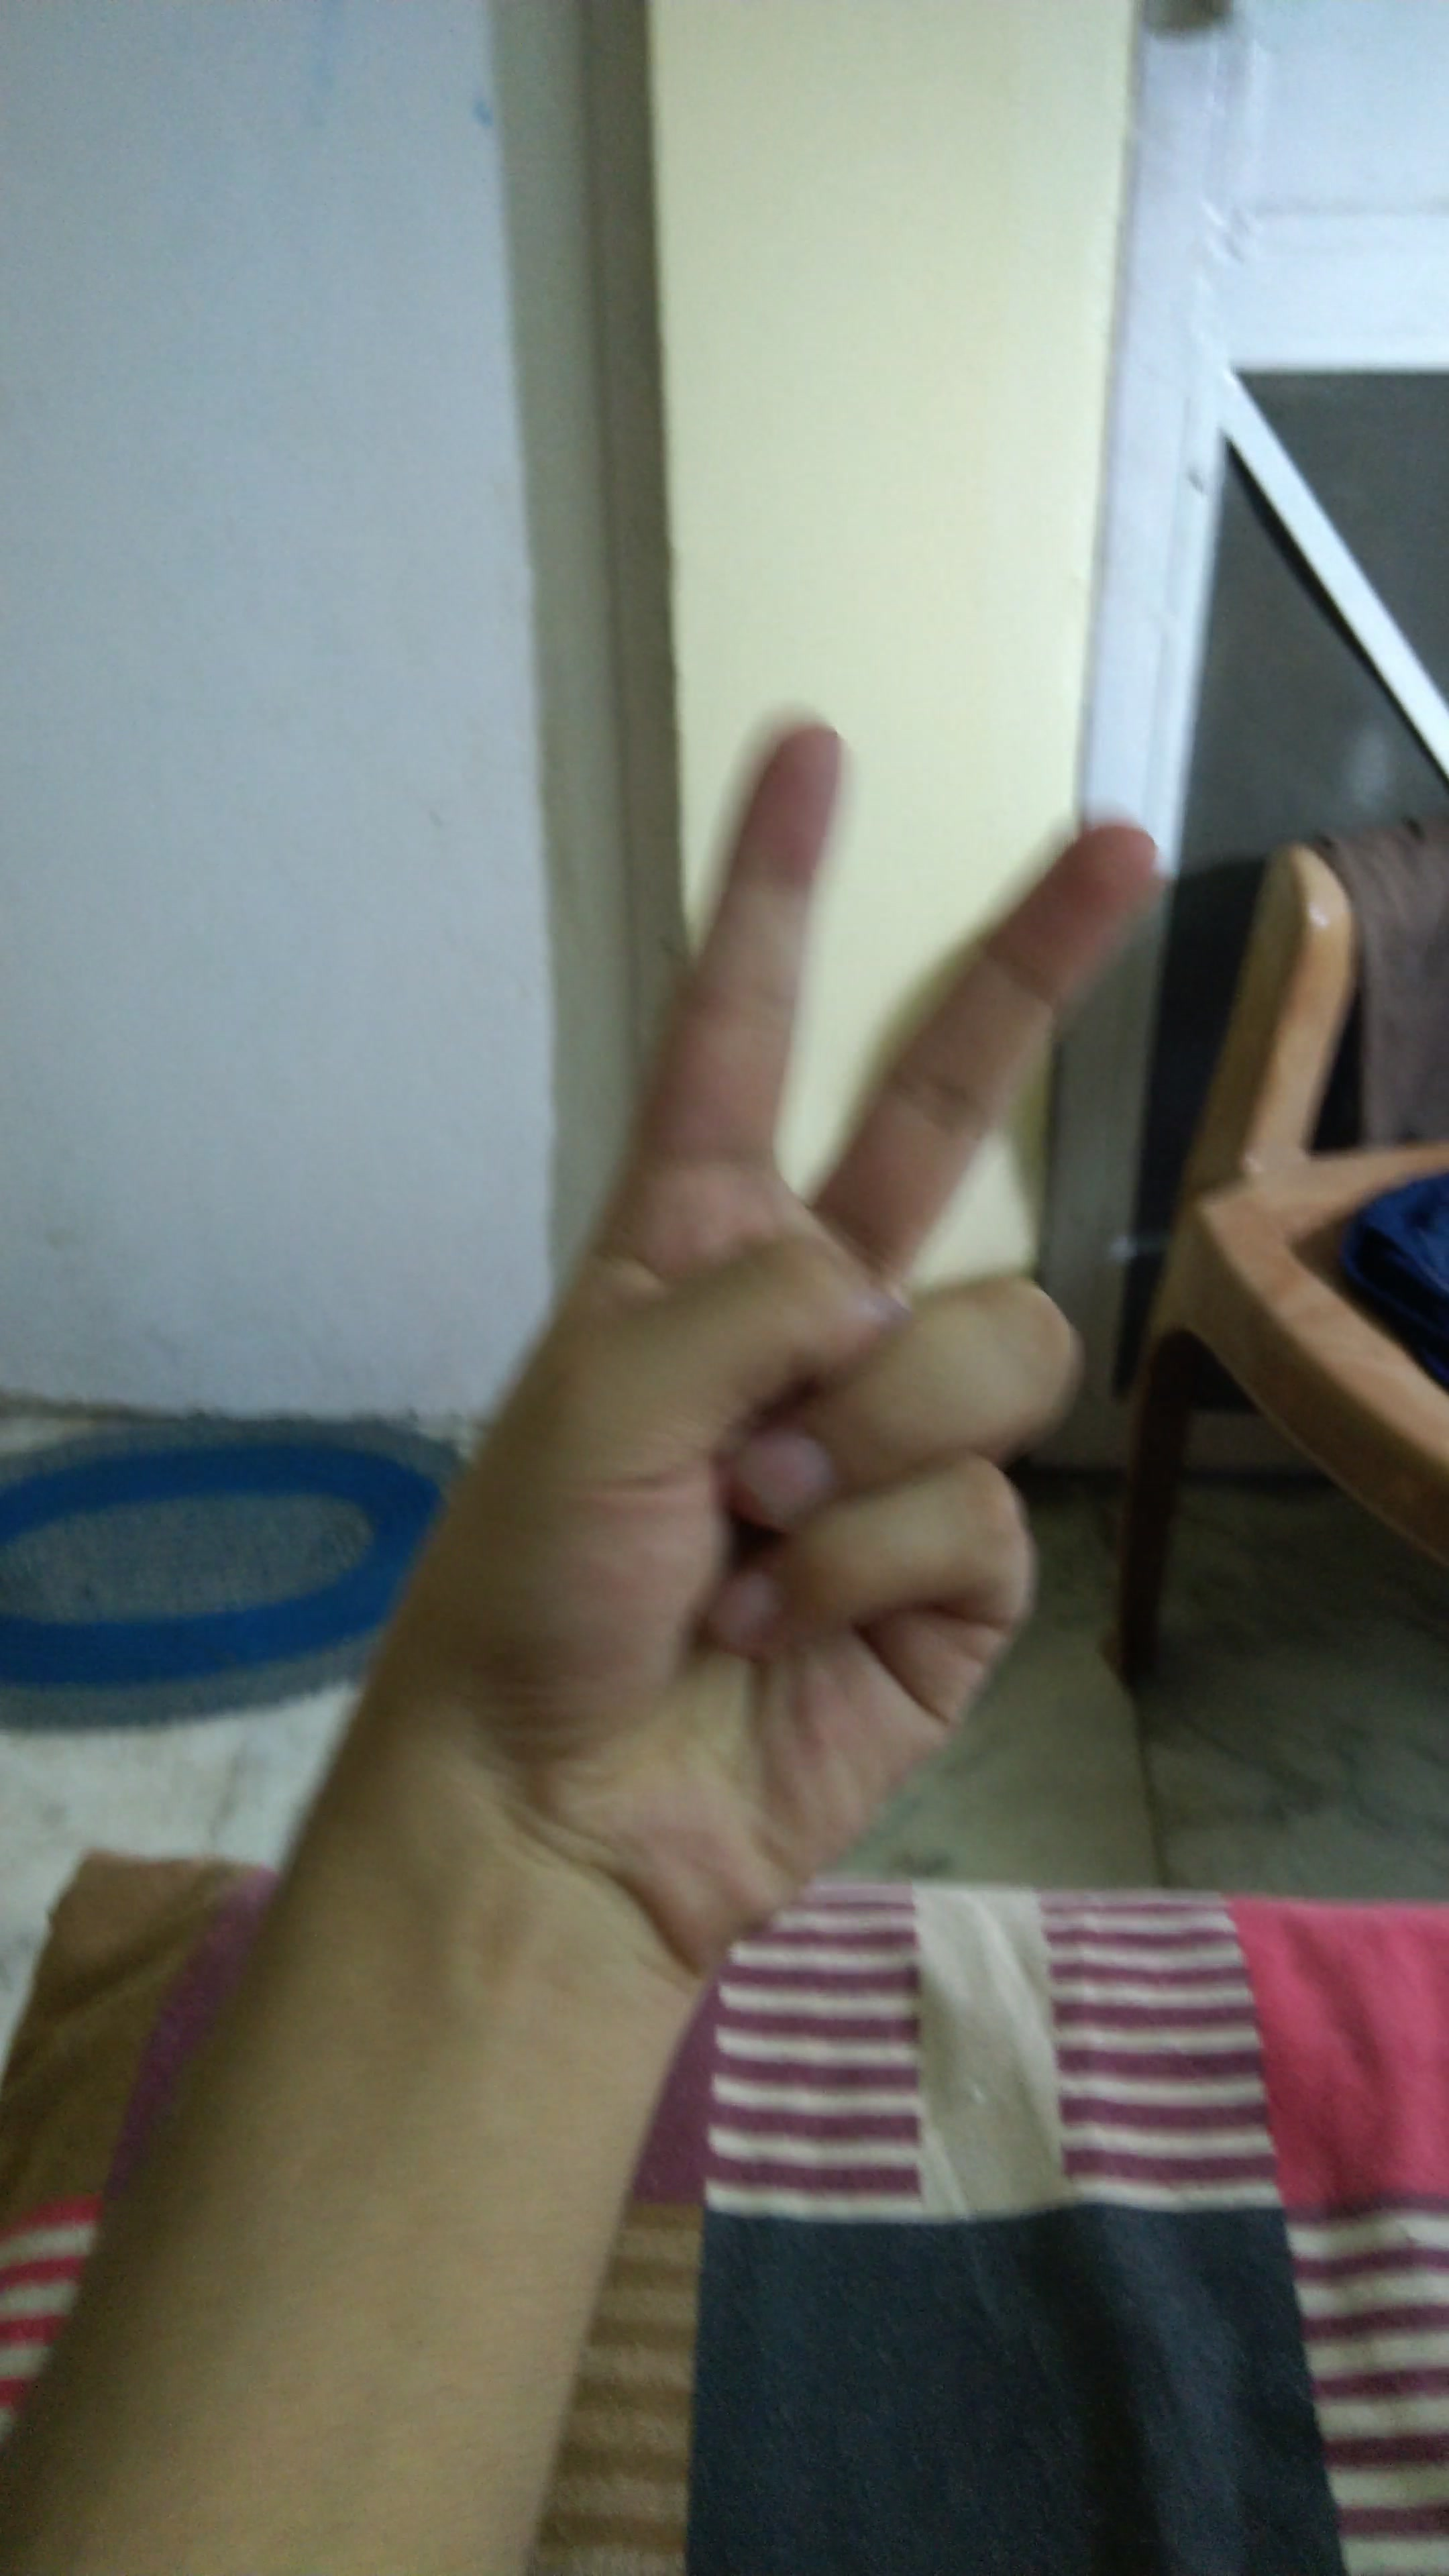hand: (211, 663, 1184, 1959)
